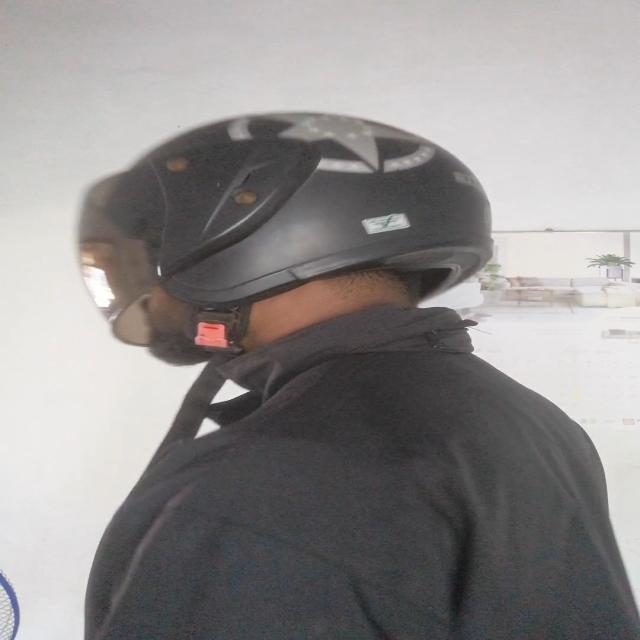Helmet_Wearer: (66, 109, 493, 358)
Jacket_Wearer: (72, 310, 640, 640)
Person: (59, 104, 639, 640)
